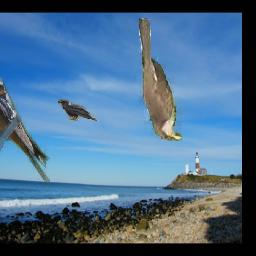Crow: (57, 99, 98, 121)
Cuckoo: (139, 18, 183, 141)
Swallow: (0, 78, 50, 184)
